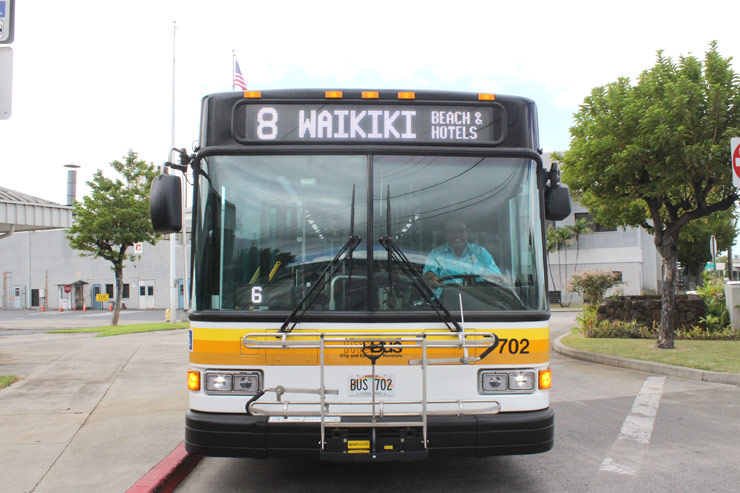destination: (244, 103, 493, 142)
